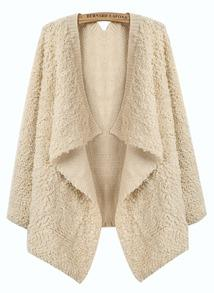C_cardigan sweater: (18, 11, 208, 284)
